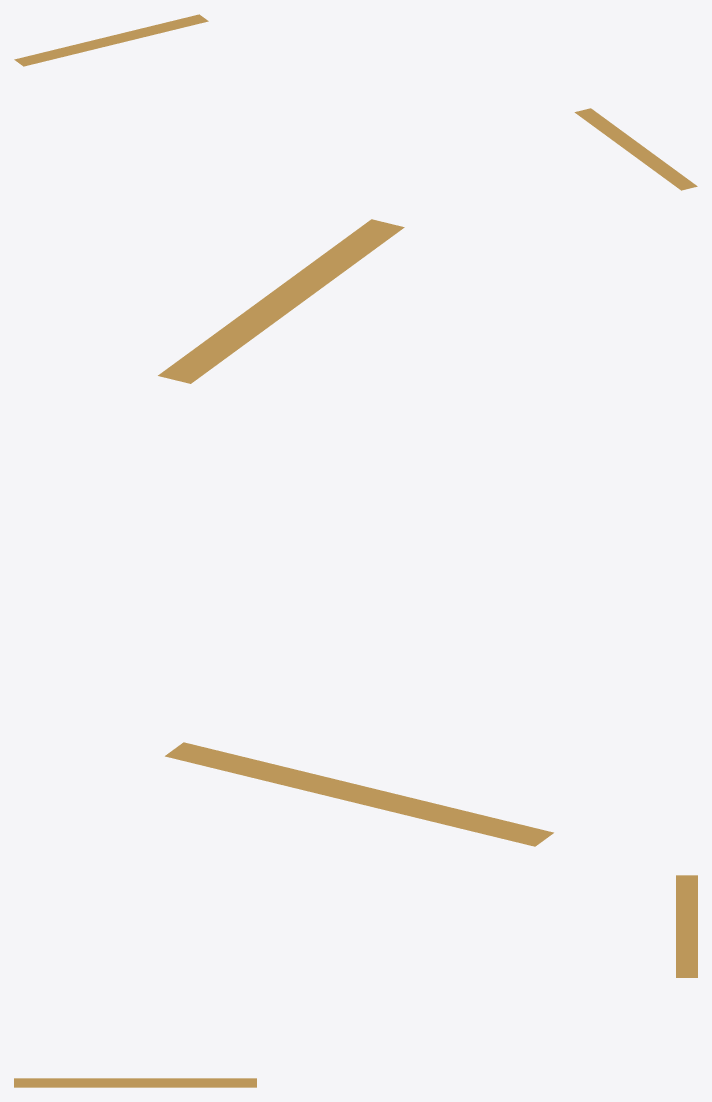
The model's file is kd_stage_13612f_3_57_bounded.glb.
3 renders of one model, top to bottom at view 1: azimuth 30°, elevation 25°; view 2: azimuth 150°, elevation 25°; view 3: azimuth 270°, elevation 25°, orthographic. The views are drawn at different scales.
Parts seen in each view (by area): view 1: kd_stage_13612f_3_57_bounded; view 2: kd_stage_13612f_3_57_bounded; view 3: kd_stage_13612f_3_57_bounded.
Part boxes in pixels (left/top/right/bottom): kd_stage_13612f_3_57_bounded: left=14, top=14, right=697, bottom=190; kd_stage_13612f_3_57_bounded: left=158, top=219, right=553, bottom=846; kd_stage_13612f_3_57_bounded: left=14, top=875, right=697, bottom=1087.
Size of the model in its own units: 20.65 by 1.19e-06 by 28.13.
1 material, 1 textured.
